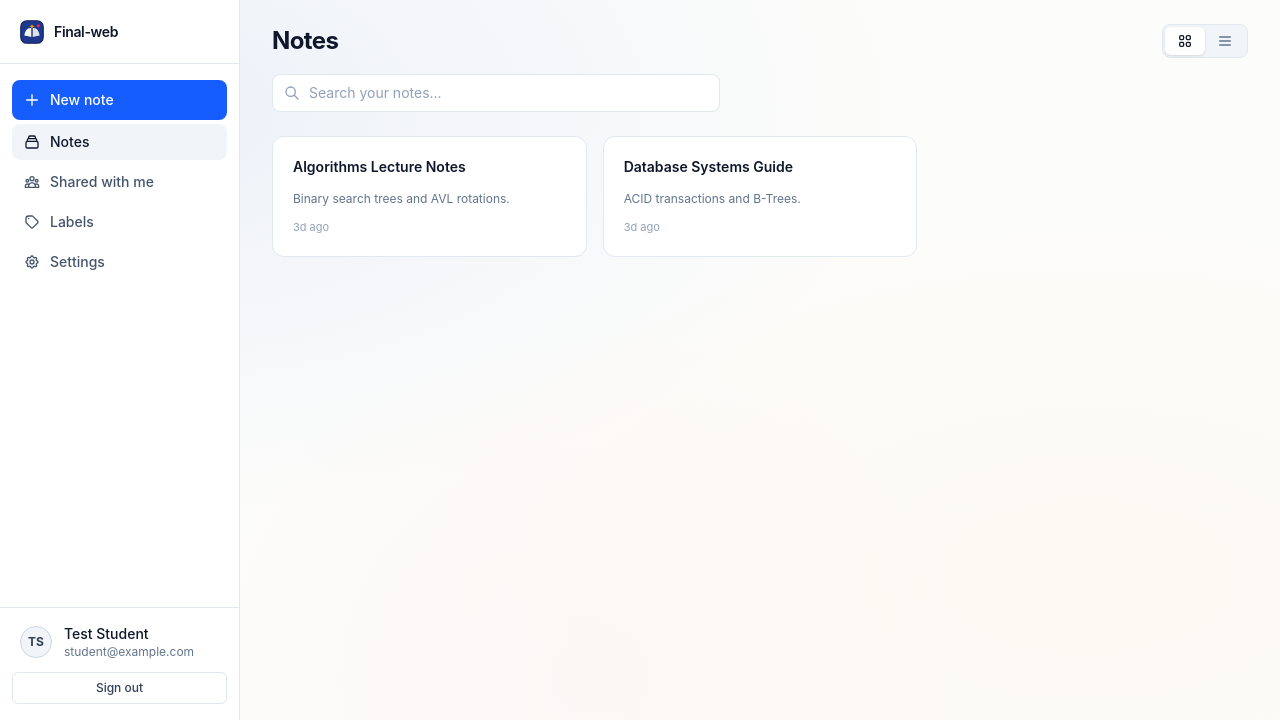
Test: NOTE-07 Live Search Tests › ensures latest search response wins race (older response cannot overwrite)
expect the number of buttons with test id "note-card" is 2: met, box [272, 136, 587, 256]; [603, 136, 917, 256]
Note: First search: 'a'
Type "a" into the field with test id "search-input".
click(496, 93); type("a")  # box [272, 74, 720, 112]
Wait 300 ms
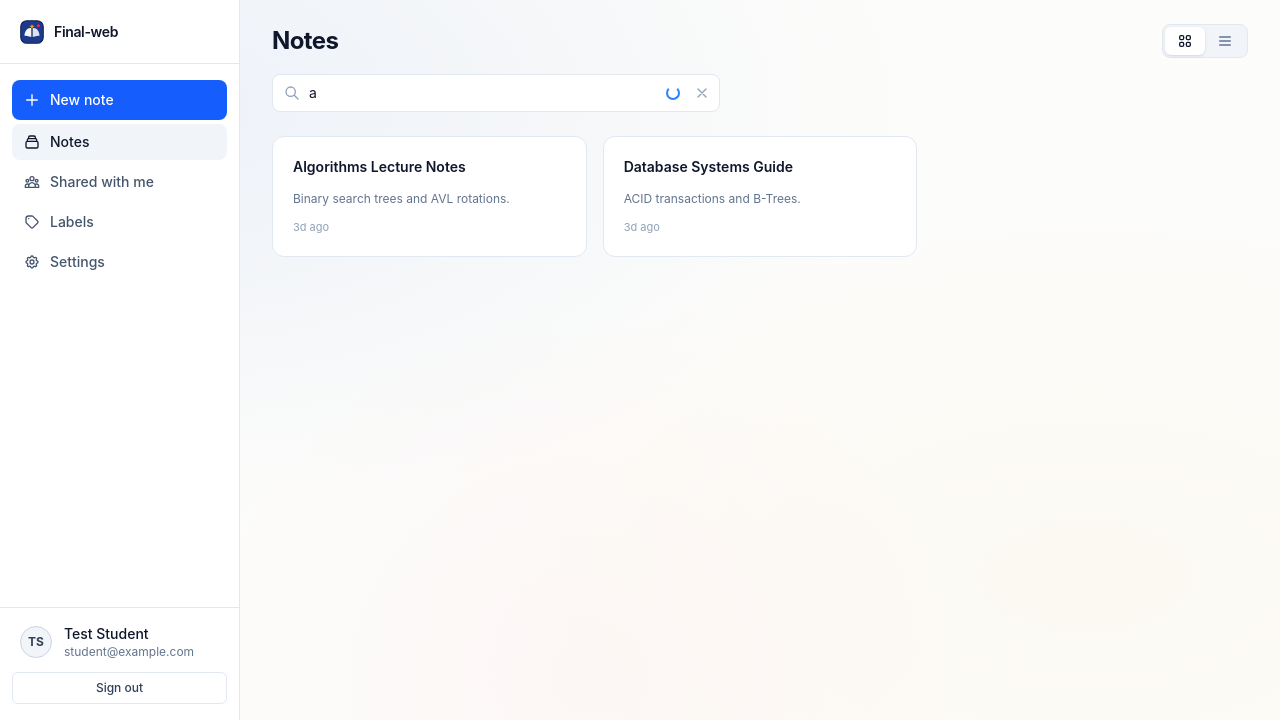
Note: Second search: 'algo'
Replace the text in the field with test id "search-input" with "algo" at (496, 93), box [272, 74, 720, 112]
Wait 300 ms
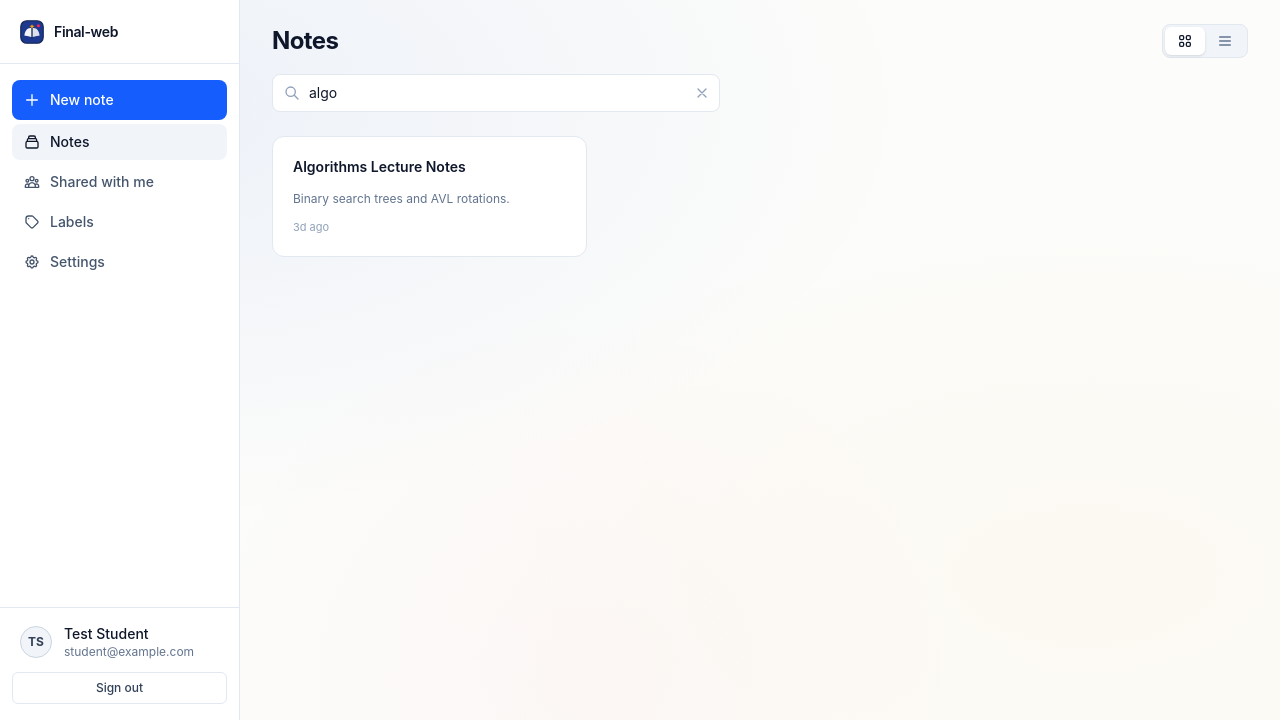
expect the number of buttons with test id "note-card" is 1: met, box [272, 136, 587, 256]
expect the button "Database Systems Guide" is gone: met
